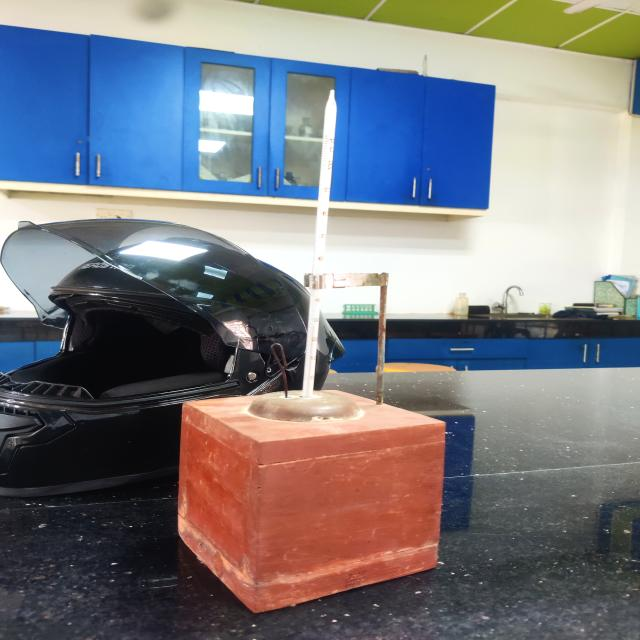Calorimeter: (153, 80, 467, 623)
